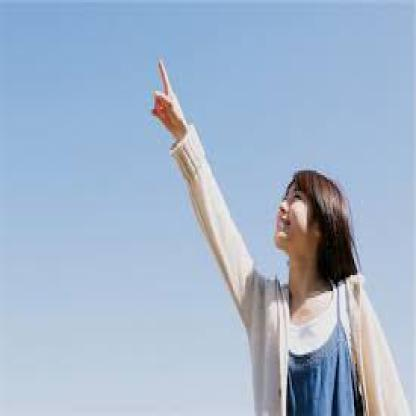Up: (142, 42, 182, 124)
